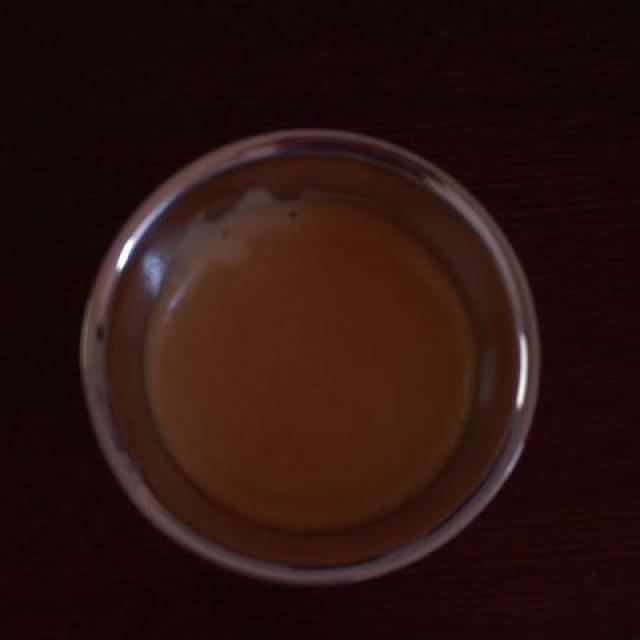coffee: (156, 198, 481, 534)
